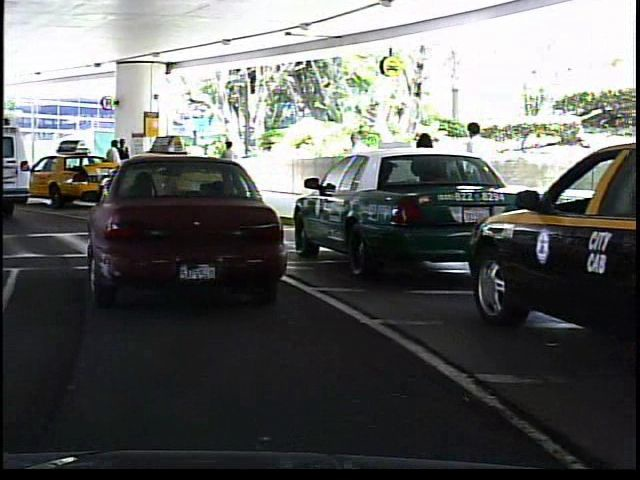person: (454, 114, 502, 230), (406, 123, 446, 229), (338, 124, 368, 204), (217, 137, 240, 191), (102, 139, 121, 192), (116, 135, 132, 192)
